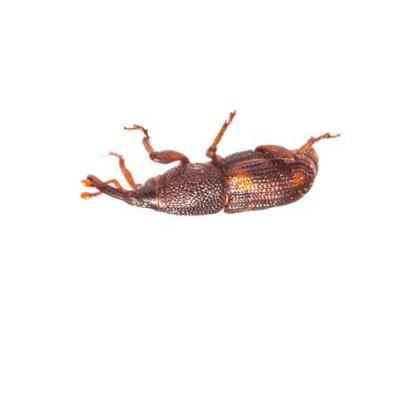rice-bug: (90, 116, 330, 222)
